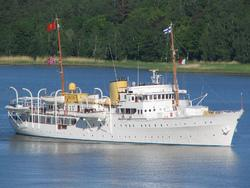otherboat: (8, 69, 244, 146)
